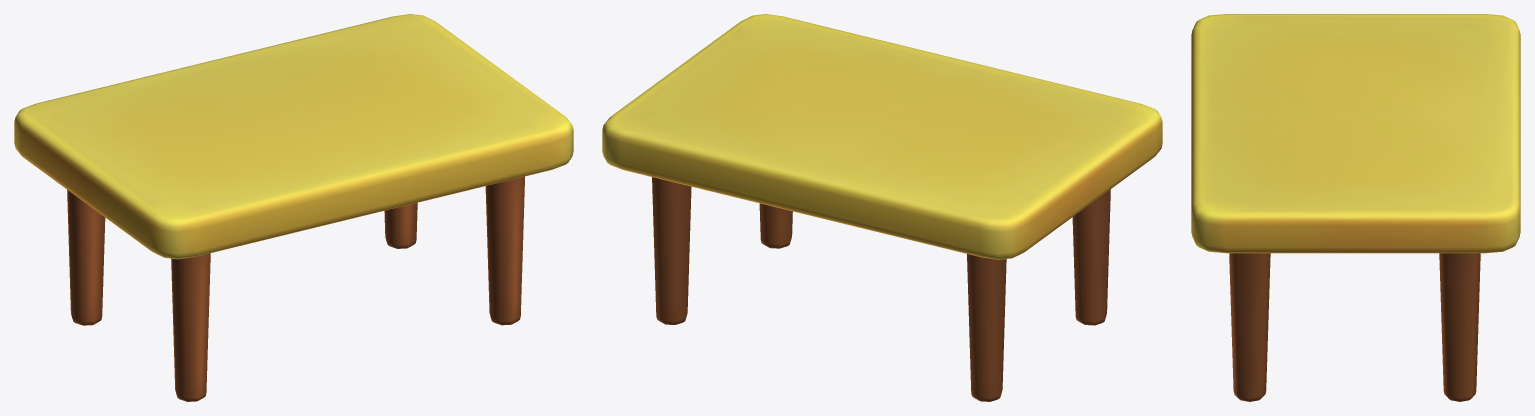
The model's file is ZhuoZi.FBX.
3 renders of one model, left to right at view 1: azimuth 30°, elevation 25°; view 2: azimuth 150°, elevation 25°; view 3: azimuth 270°, elevation 25°, orthographic.
Visible parts, largest first — view 1: ZhuoZi; view 2: ZhuoZi; view 3: ZhuoZi.
Boxes of the visible parts, x1=… form: ZhuoZi: x1=14, y1=14, x2=573, y2=401; ZhuoZi: x1=602, y1=14, x2=1162, y2=401; ZhuoZi: x1=1191, y1=14, x2=1520, y2=401.
Bounding box in the file's own units: 123 × 57.11 × 83.02.
Materials: 1 (1 with a texture image).
